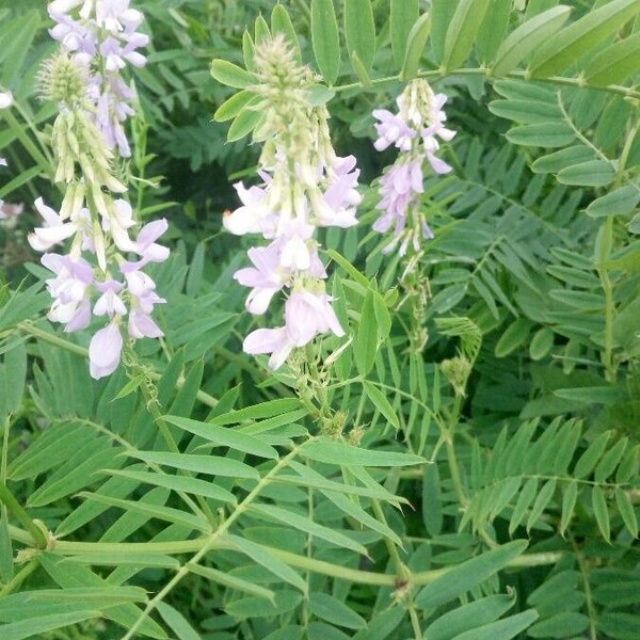obstacle: (79, 54, 579, 479), (41, 389, 534, 633)
